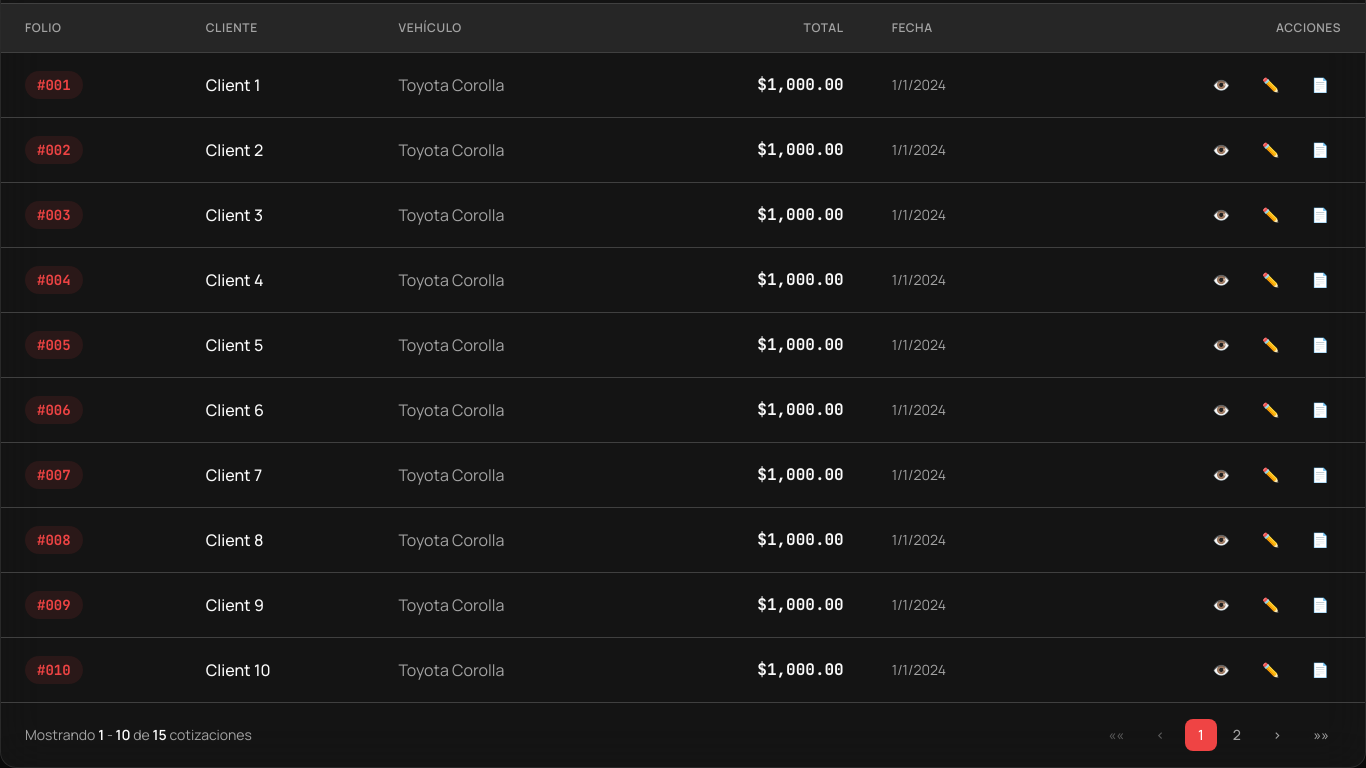
Test: QuotationList component › navigates to next page
(page scrolled)
Click the button "›".
click(1277, 735)  # box [1261, 719, 1294, 751]
(page scrolled)
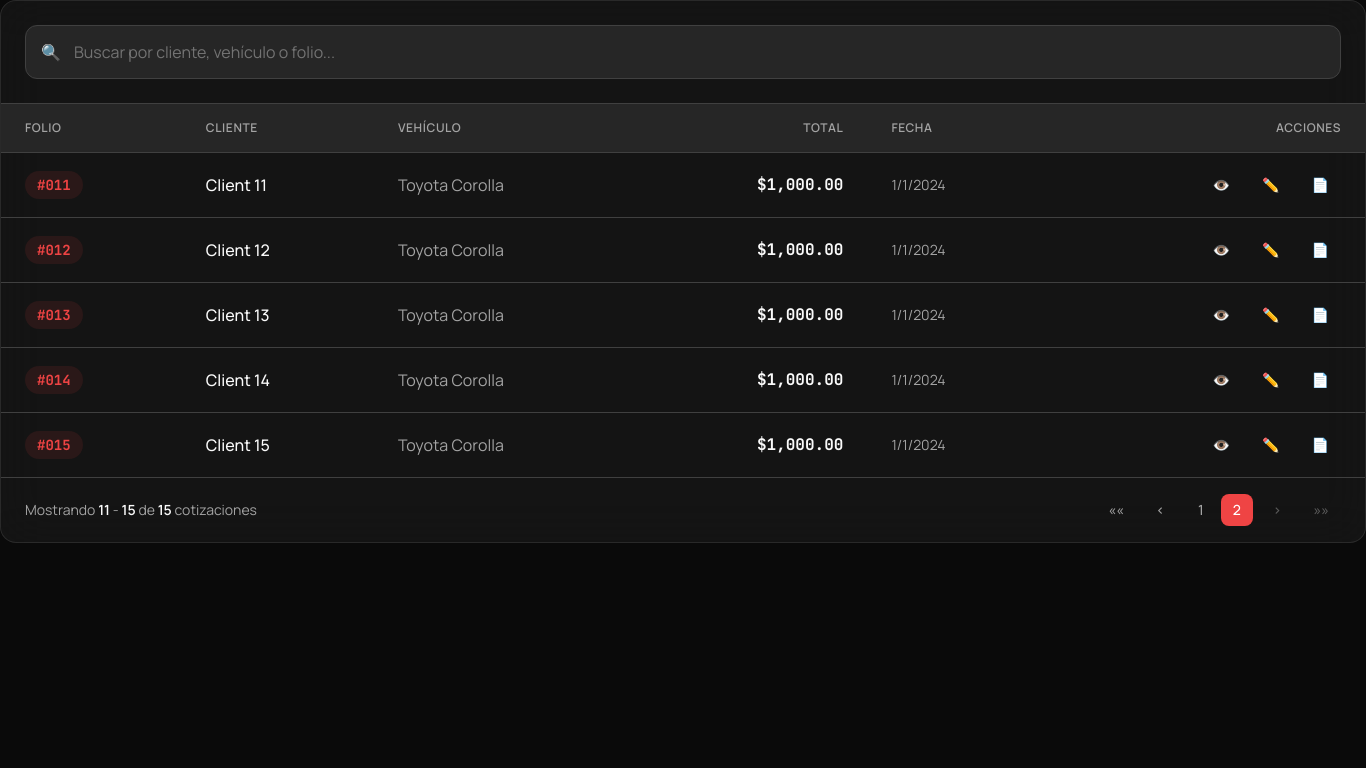
Now the cell no longer shows "Client 10"
Now the text "Client 11" is shown, box [182, 152, 374, 218]
